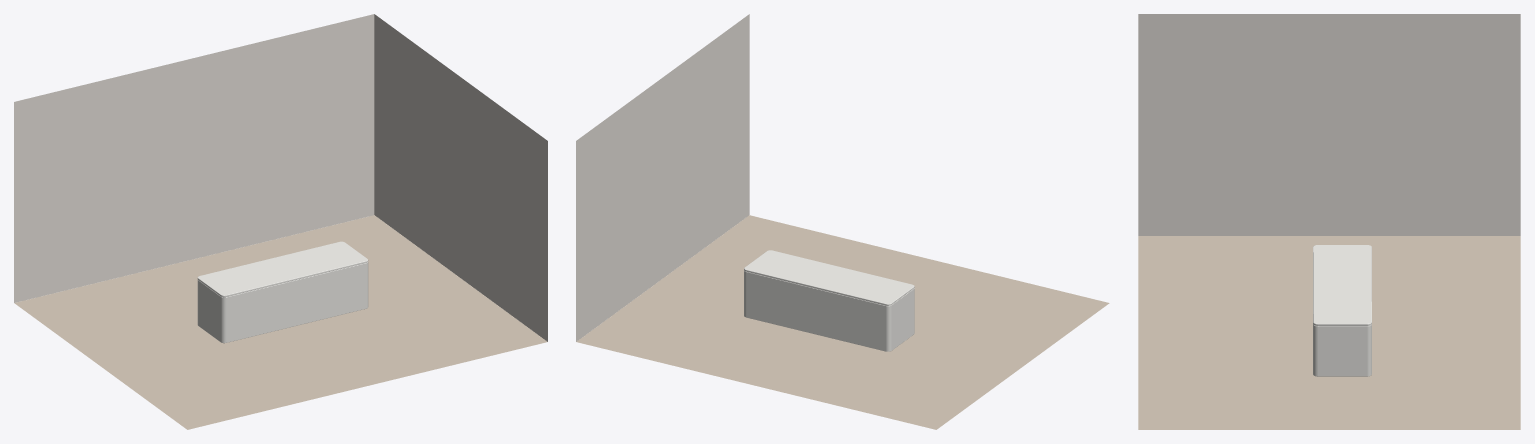
The model's file is mesa-imperial.glb.
The picture shows the model from 3 angles, left to right: view 1: azimuth 30°, elevation 25°; view 2: azimuth 150°, elevation 25°; view 3: azimuth 270°, elevation 25°; orthographic projection. The views are drawn at different scales.
Parts seen in each view (by area): view 1: sala, decoracion; view 2: sala, decoracion; view 3: sala, decoracion.
Boxes of the visible parts, bbox=[...] form: sala: bbox=[14, 14, 547, 429]; decoracion: bbox=[197, 241, 368, 343]; sala: bbox=[576, 14, 1109, 429]; decoracion: bbox=[744, 250, 914, 351]; sala: bbox=[1138, 14, 1520, 429]; decoracion: bbox=[1313, 245, 1371, 376].
Size of the model in its own units: 6 by 3.2 by 5.
